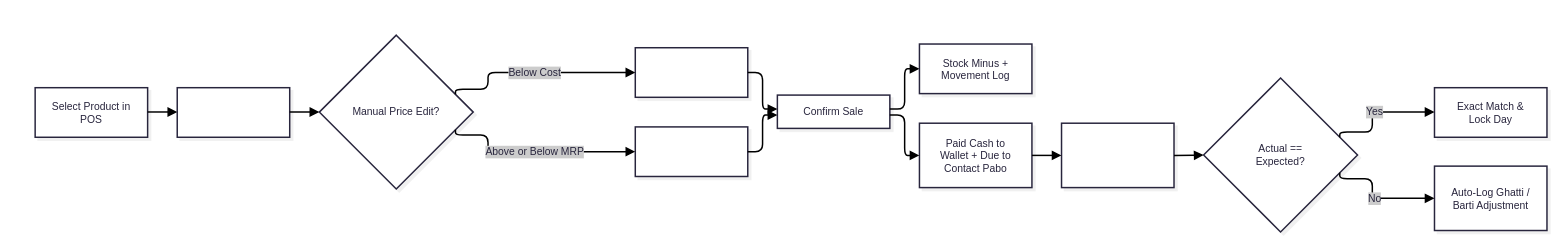
Image size: 1563x248. Some labels were removed from this diagram. The centre of each missing label's shape, as x and y in pixels:
"Auto-Fill MRP Price" goes at point 234,114.
"End of Day: Count Notes in Cash Closing" goes at point 1118,156.
"Log Price Variance" goes at point 692,153.
"Show Red Loss Warning" goes at point 692,74.
